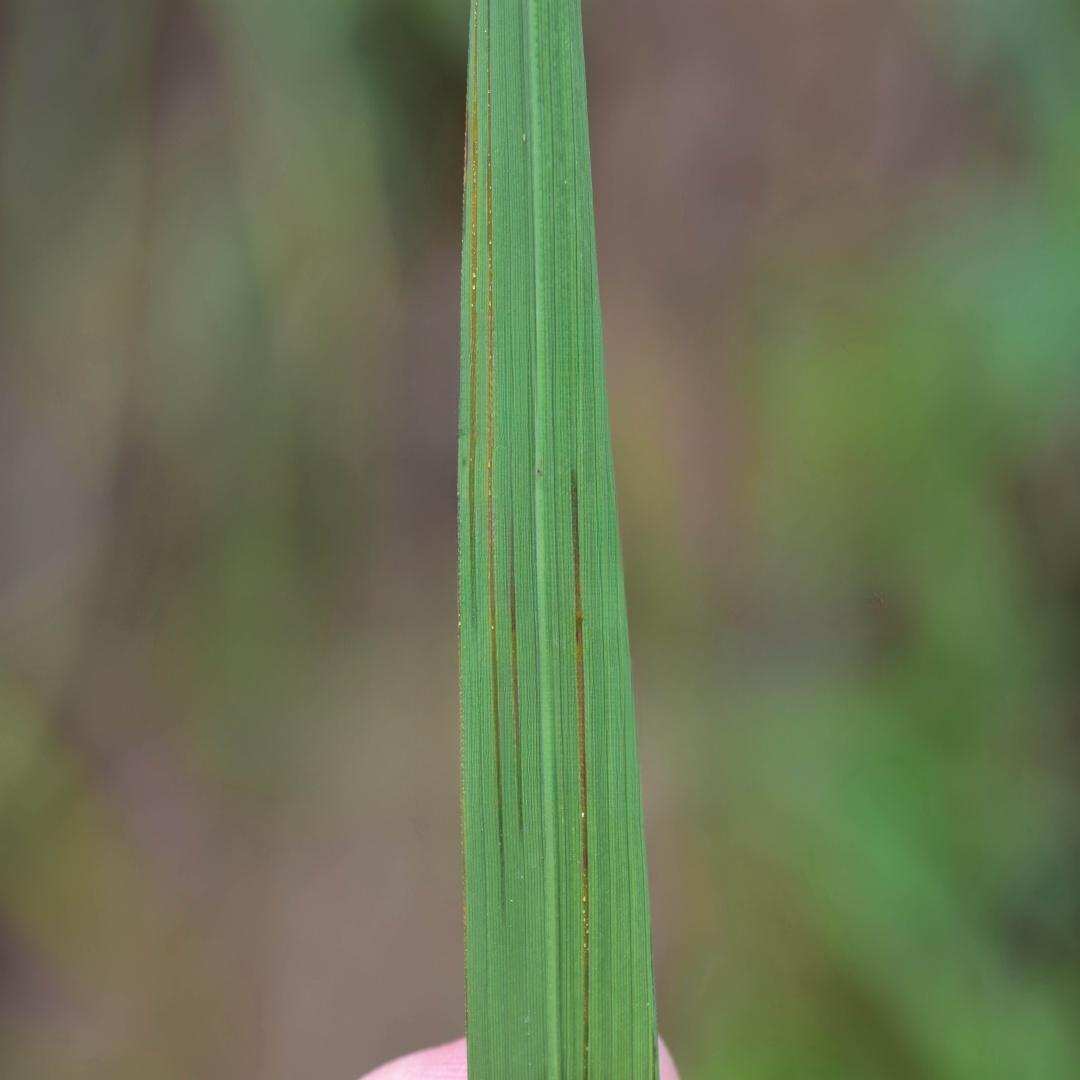BLS: (487, 0, 506, 912), (572, 476, 589, 1079), (469, 0, 478, 630), (511, 524, 523, 838), (464, 101, 468, 185)
LEAF: (456, 0, 658, 1079)
